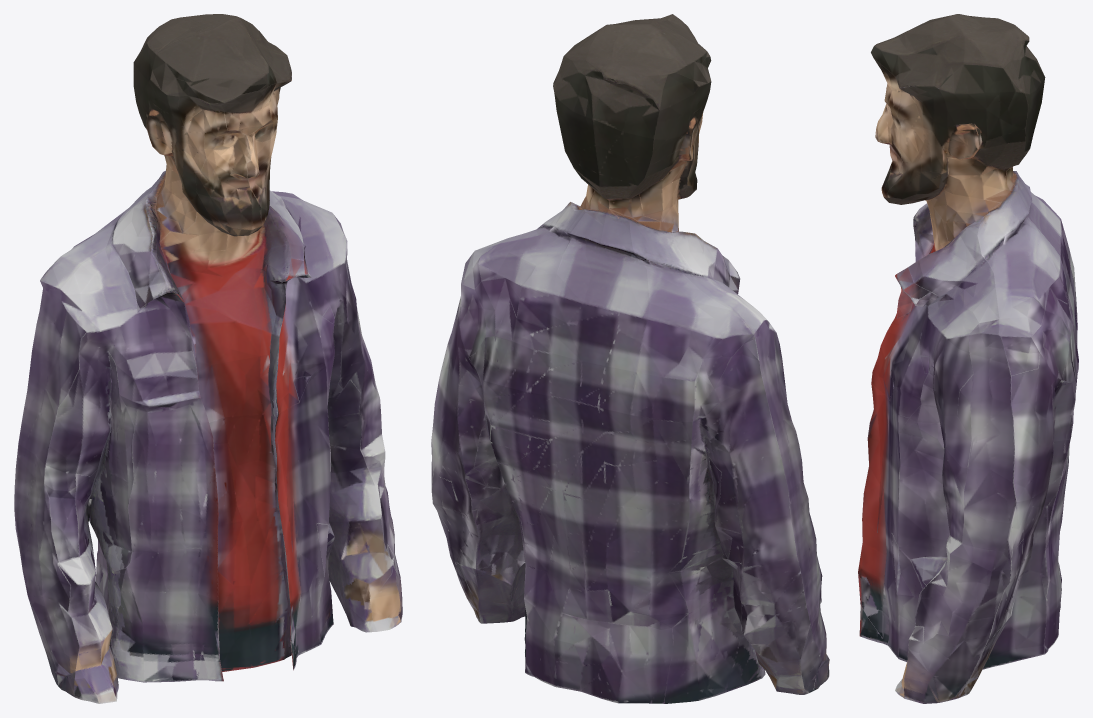
File: step_5.glb
The picture shows the model from 3 angles, left to right: view 1: azimuth 30°, elevation 25°; view 2: azimuth 150°, elevation 25°; view 3: azimuth 270°, elevation 25°; orthographic projection. The views are drawn at different scales.
Parts seen in each view (by area): view 1: geometry_0; view 2: geometry_0; view 3: geometry_0.
Boxes of the visible parts, left/top/right/bottom form: geometry_0: left=14, top=14, right=402, bottom=703; geometry_0: left=431, top=14, right=829, bottom=703; geometry_0: left=858, top=14, right=1078, bottom=703.
Bounding box in the file's own units: 0.5061 × 0.8284 × 0.2754.
1 material, 1 textured.
